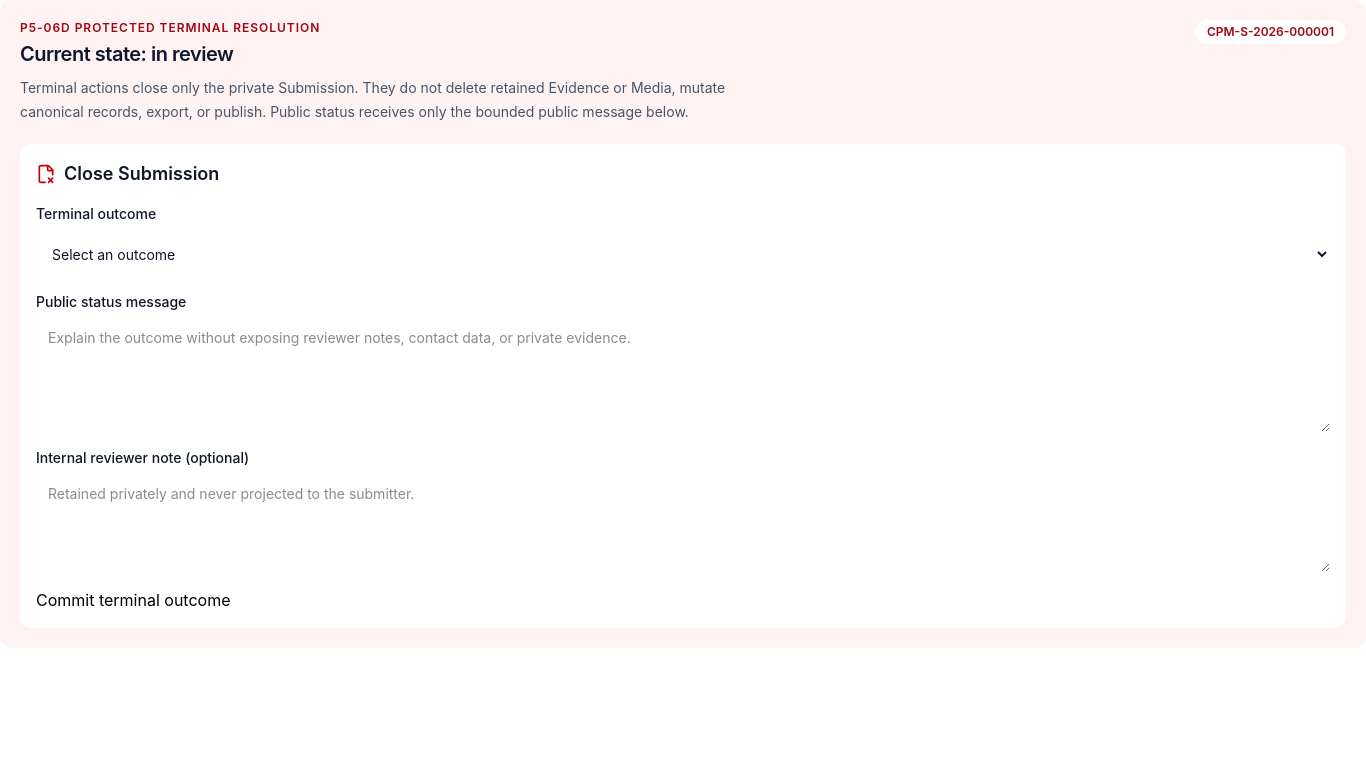
Test: P5-06D2 terminal-resolution controls › offers report not-approved and withdrawal without stealing typed duplicate or no-change
Select "Not approved" in the dropdown labelled "Terminal outcome" at (683, 254), box [36, 232, 1330, 276]
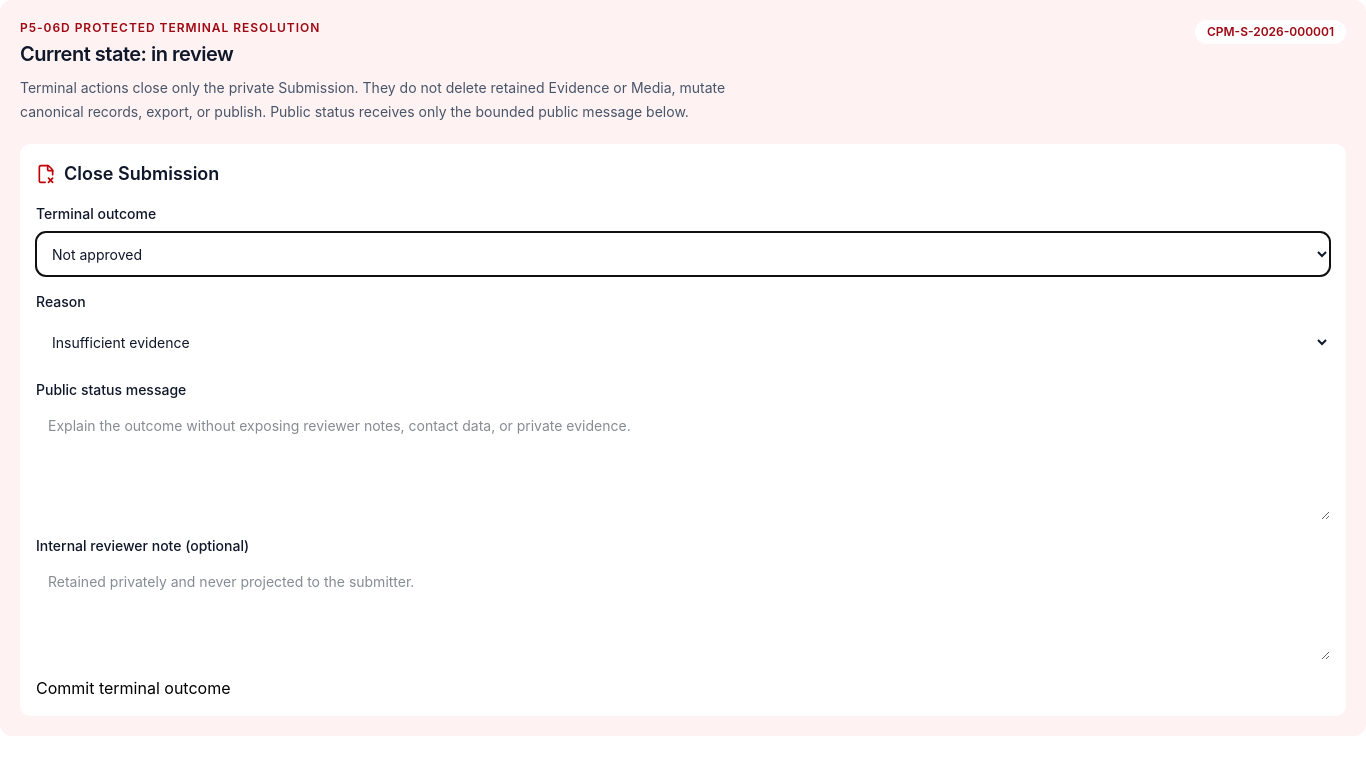
Type "The report could not be approved from the available information." into the text box labelled "Public status message" at (683, 464), box [36, 408, 1330, 520]
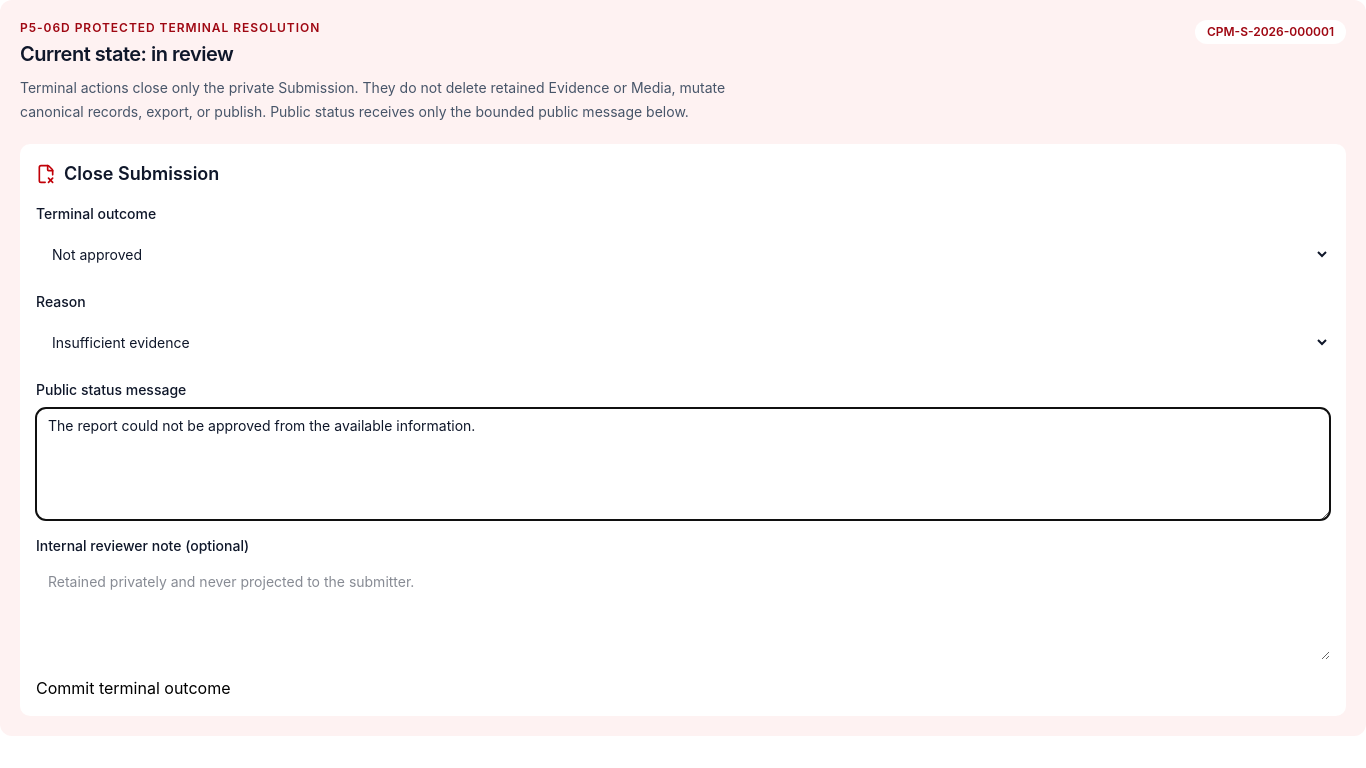
Click the button "Commit terminal outcome" at (133, 688), box [36, 676, 230, 700]
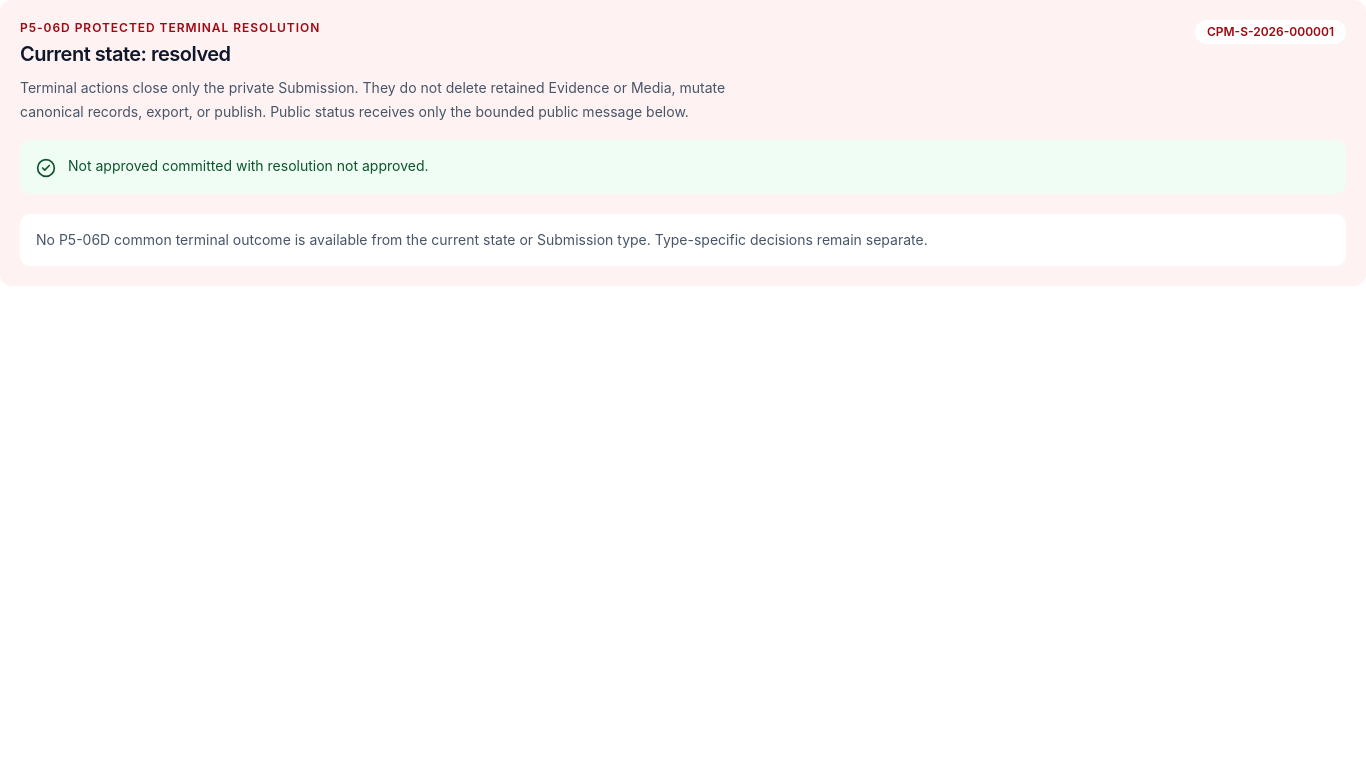
Expected: the text "Not approved committed with resolution not approved." is shown, [68, 156, 428, 176]
